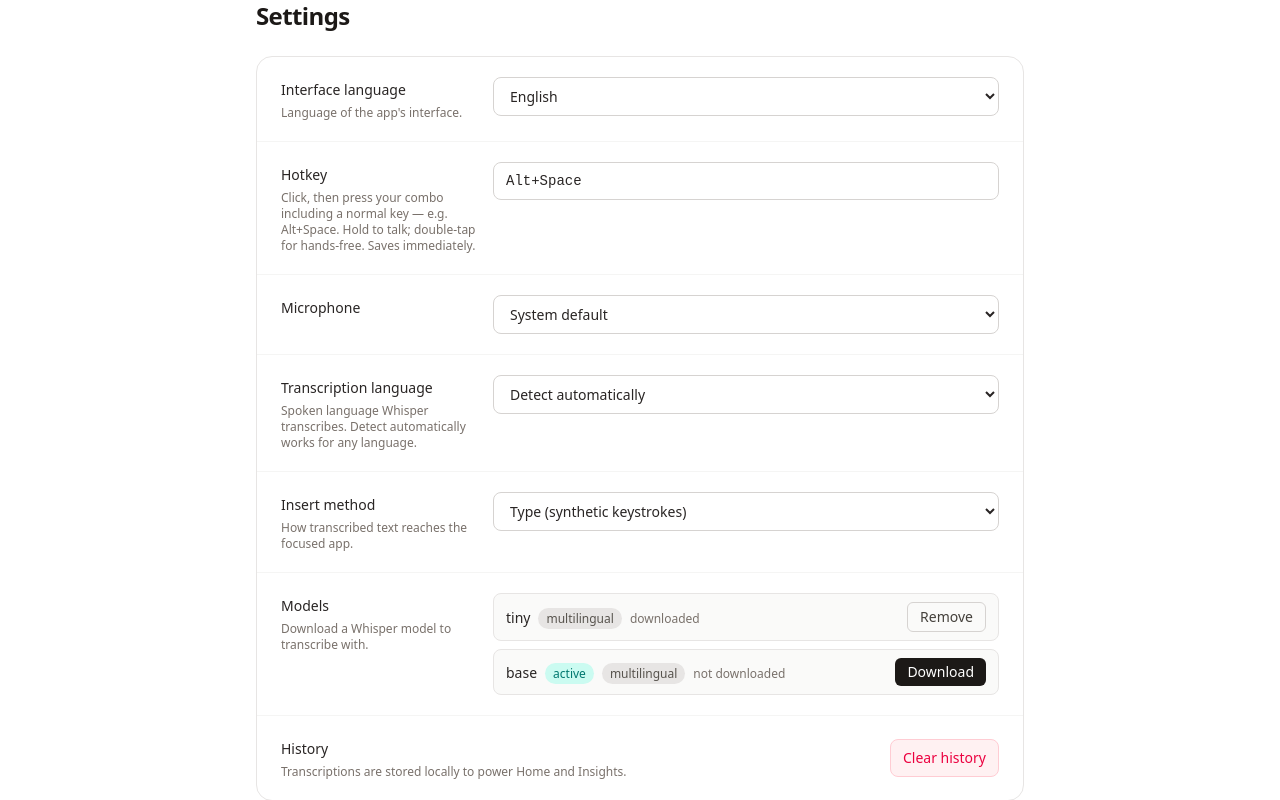
Test: Settings › clicking Remove opens the remove confirm modal
The width and height of the screenshot is (1280, 800).
Click the button "Remove" at [947, 617], box [907,602,986,632]
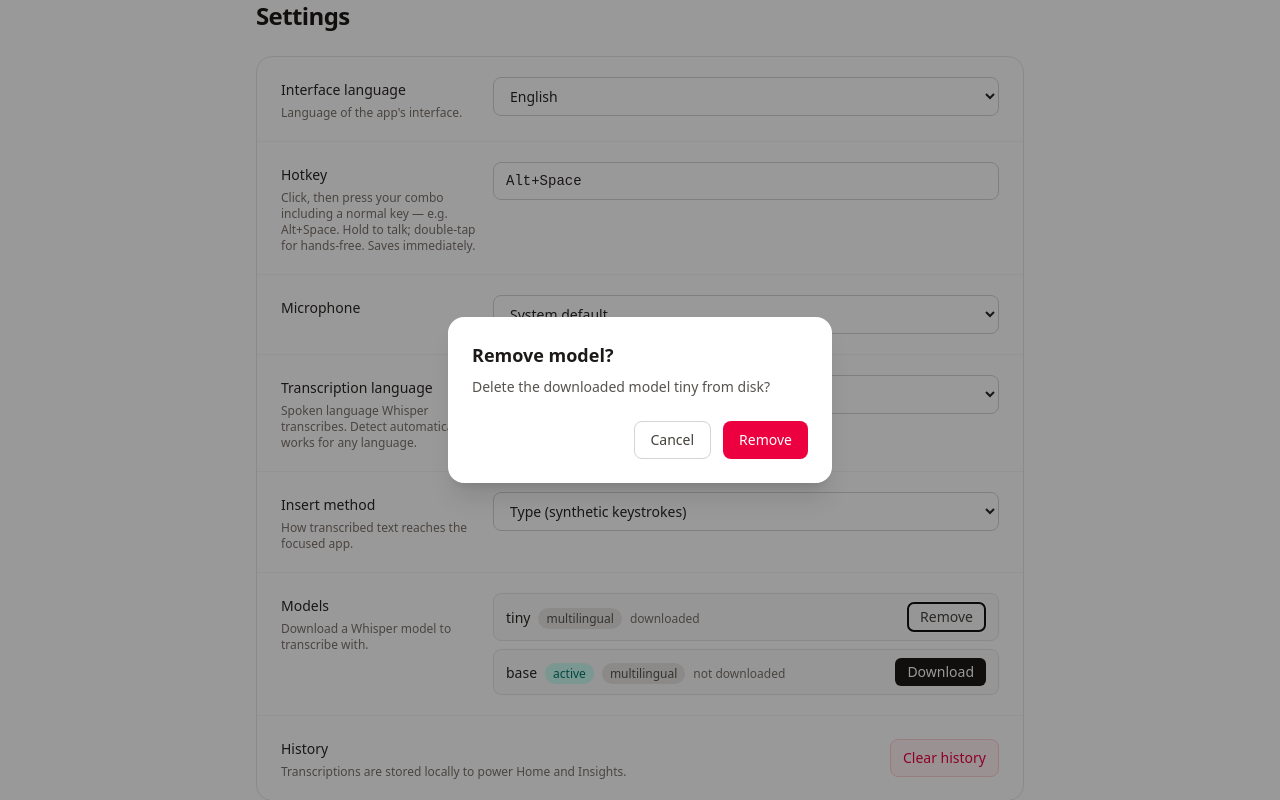
expect the dialog is shown: met, box [448,317,832,483]
expect the heading "Remove model?" is shown: met, box [472,343,614,367]
